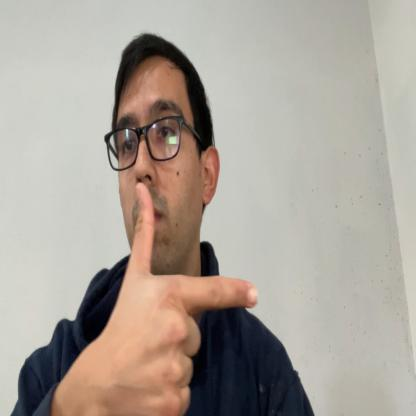G: (118, 182, 259, 415)
